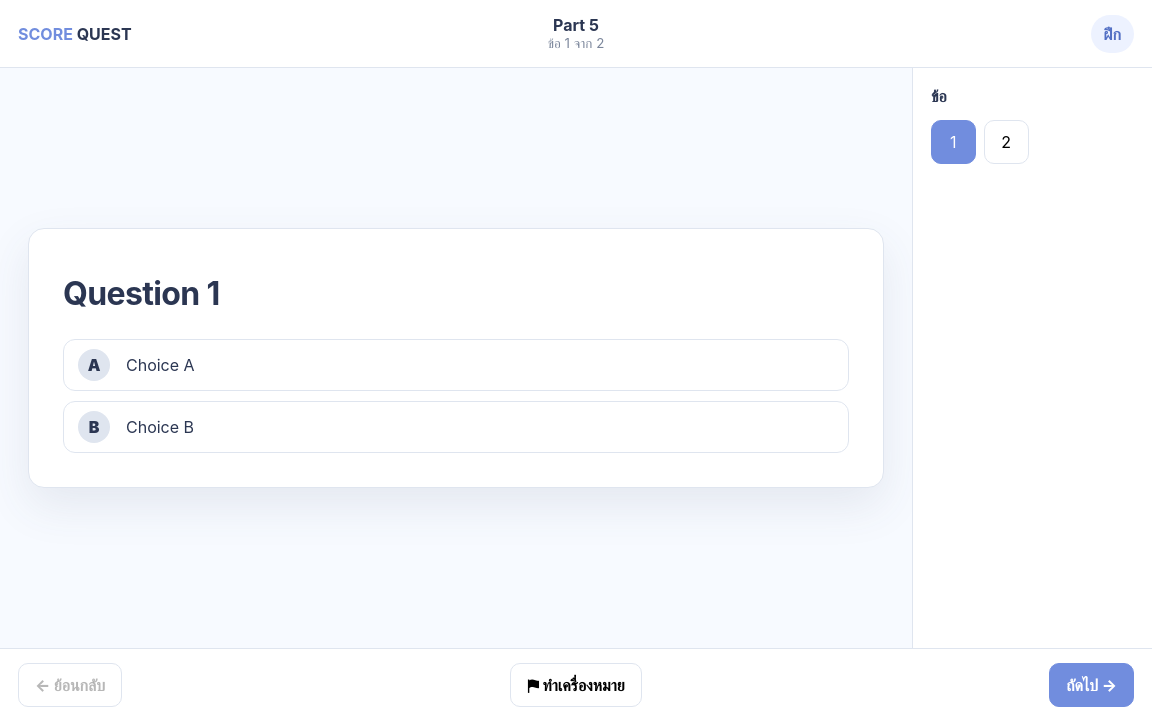
Test: ExamPage › autosaves a choice and supports next/previous navigation
This screenshot has width=1152, height=720.
Click the radio button labelled "A Choice A": [94, 365] box [63,339,849,391]
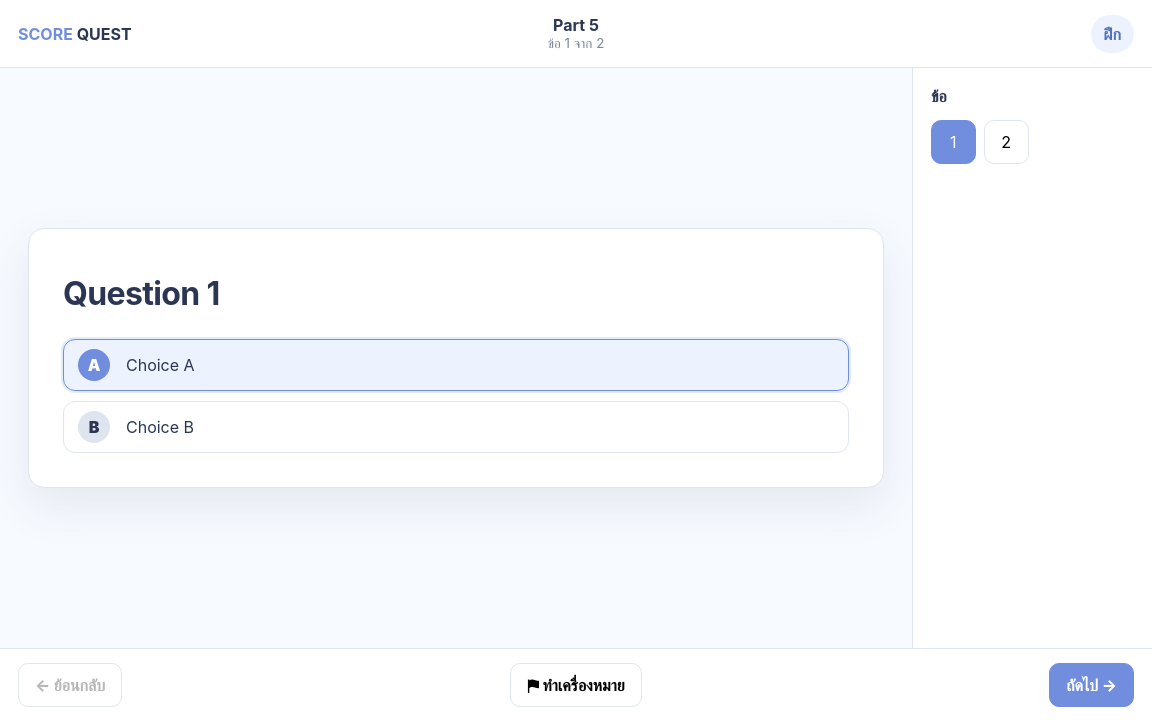
Click the button "ถัดไป →": [1092, 684] box [1049,662,1134,706]
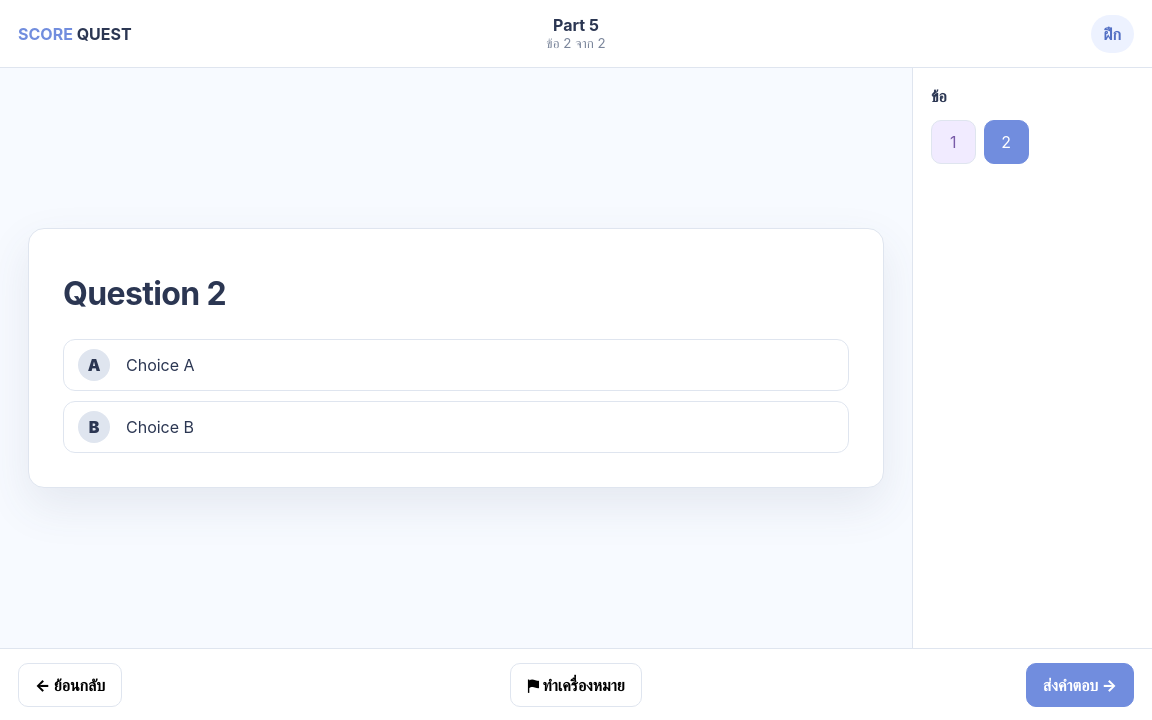
Expected: the heading "Question 2" is shown, [63,274,226,313]
Click the button "← ย้อนกลับ": [70, 684] box [18,662,122,706]
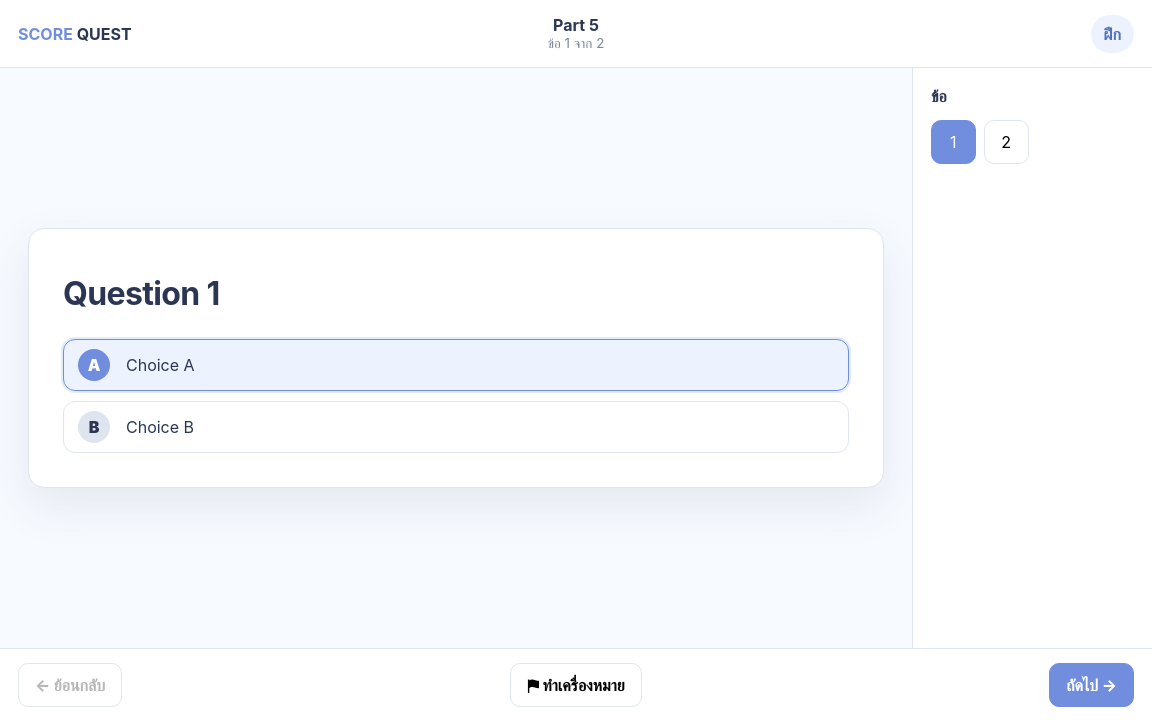
Expected: the heading "Question 1" is shown, [63,274,220,313]
